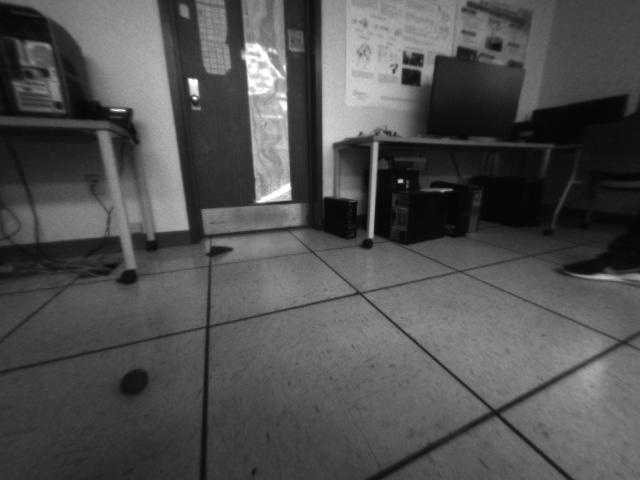dogtoy: (115, 362, 157, 403)
